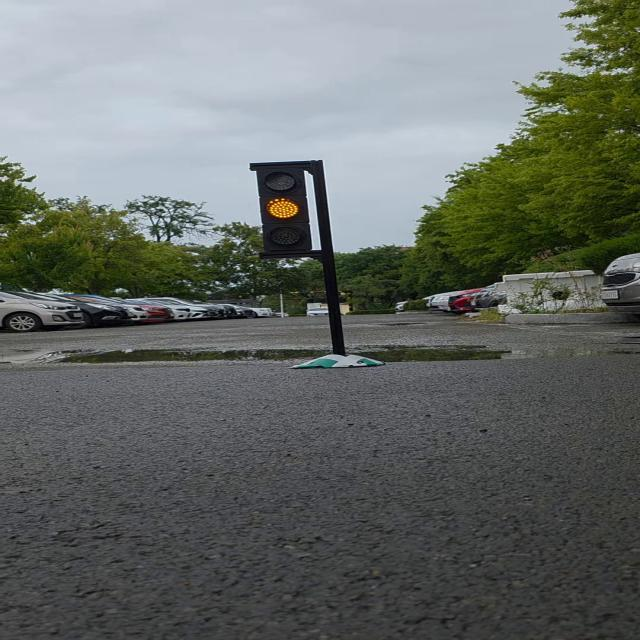yellow: (249, 165, 323, 255)
